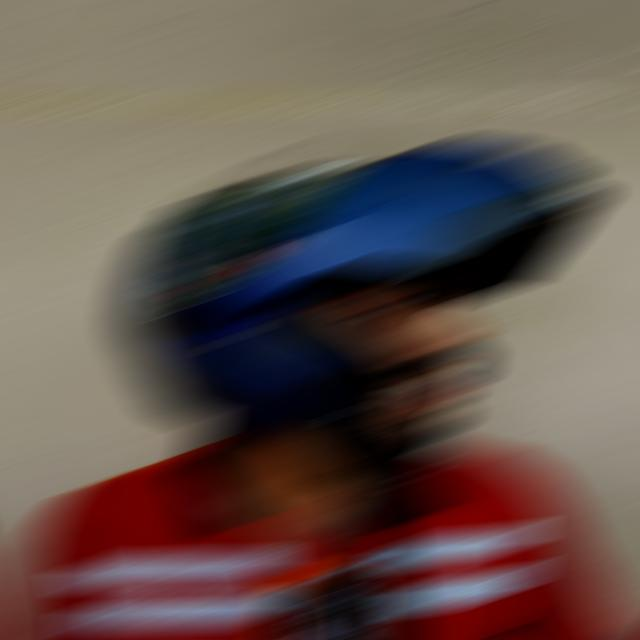With Helmet: (115, 139, 600, 442)
